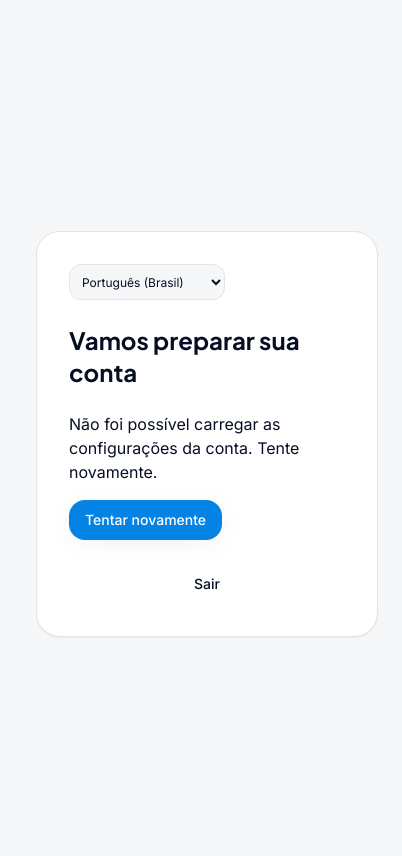
fails closed when the account region is unavailable, with a retry action
Expected: the message is shown, [69,414,299,540]
Expected: the text "BR:" is not shown
Click the button "Tentar novamente".
click(146, 520)  # box [69,500,222,540]
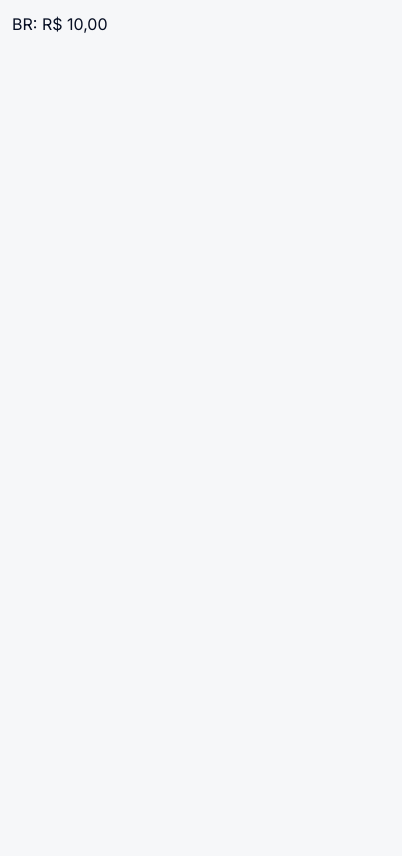
Expected: the text "BR: R$ 10,00" is shown, [12,14,108,34]
